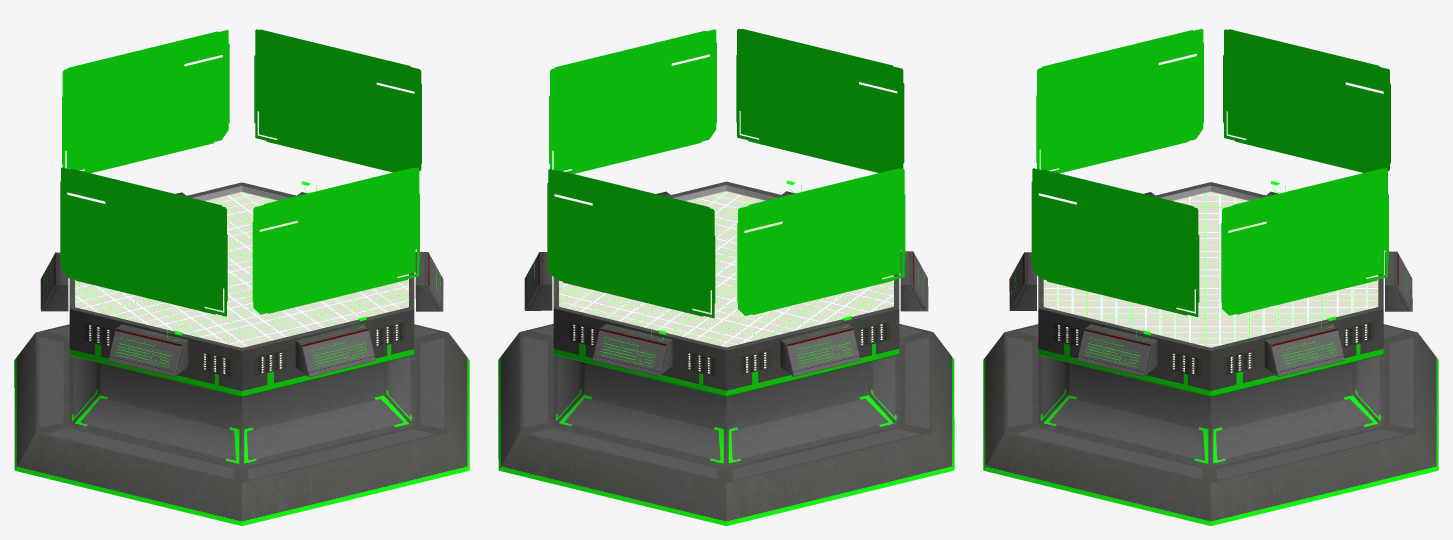
Rendered from Screen_geo.fbx.
The picture shows the model from 3 angles, left to right: view 1: azimuth 30°, elevation 25°; view 2: azimuth 150°, elevation 25°; view 3: azimuth 270°, elevation 25°; orthographic projection.
Visible parts, largest first — view 1: Table1, Screens; view 2: Table1, Screens; view 3: Table1, Screens.
Part boxes in pixels (x1,y1,x2,y2): Table1: (14, 181, 469, 525); Screens: (60, 29, 421, 316); Table1: (498, 180, 954, 525); Screens: (547, 28, 905, 318); Table1: (983, 181, 1438, 525); Screens: (1031, 29, 1390, 316).
Size of the model in its own units: 287 by 186 by 249.
2 materials, 2 textured.
